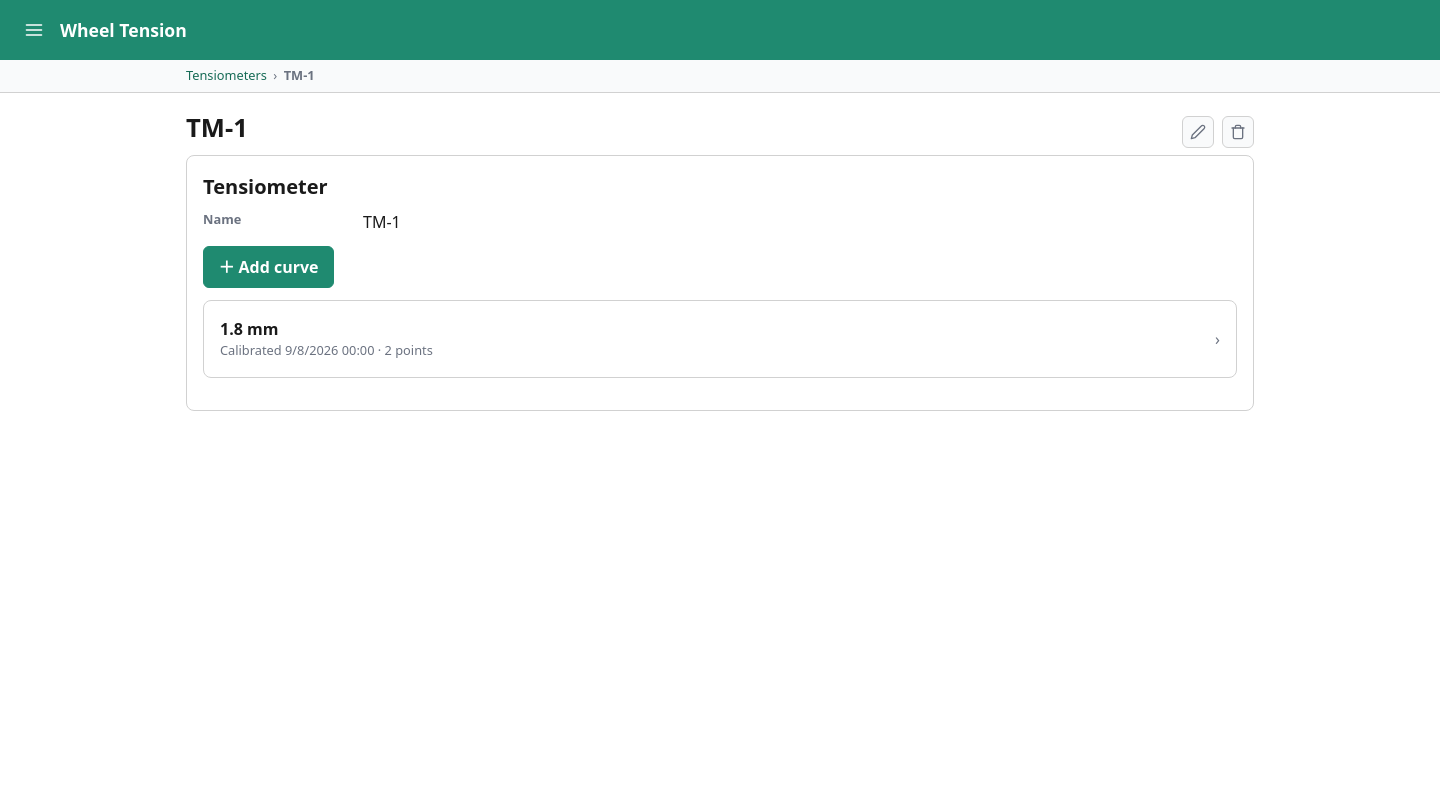
it: TensiometerDetailPage › deletes the tensiometer via the delete dialog and returns to the list
Click the button named "Delete tensiometer": click(1238, 132) [1222,116,1254,148]
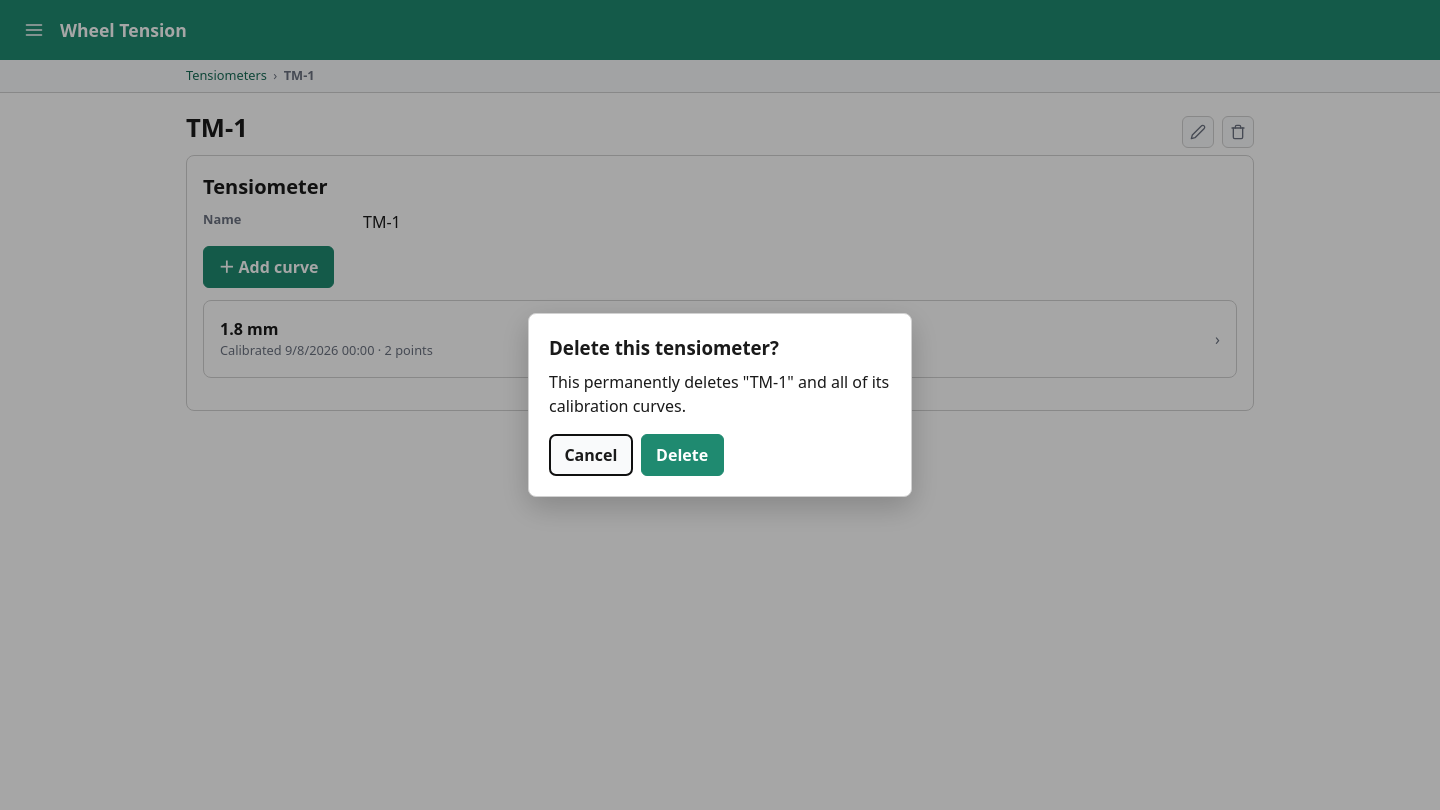
Click the button "Delete": click(682, 455) [641,434,724,476]
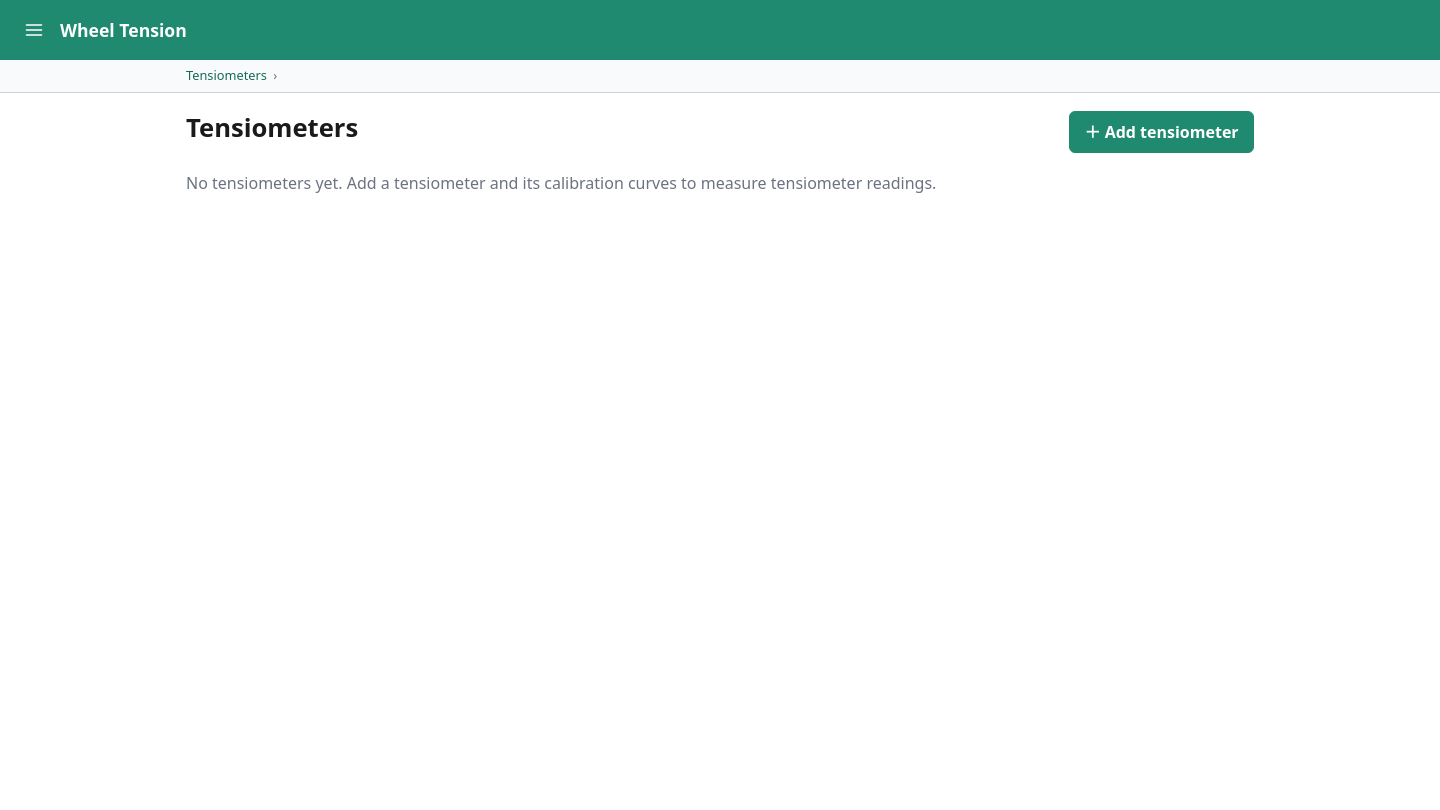
Now the heading "Tensiometers" is shown, box [186,109,358,147]
Now the text "No tensiometers yet" is shown, box [186,172,936,194]
